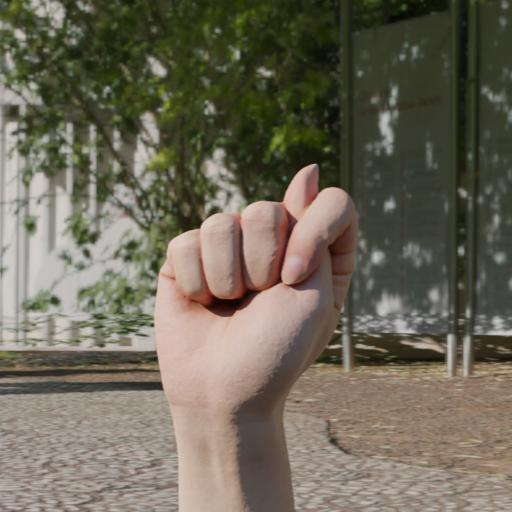T: (150, 160, 365, 430)
